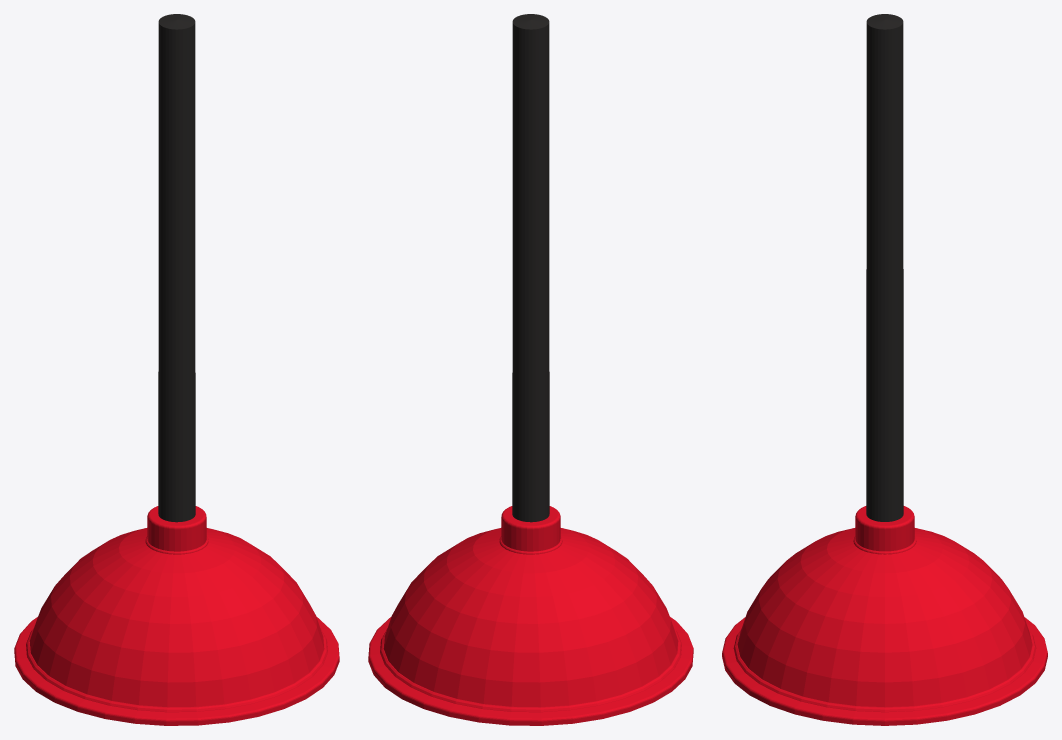
Rendered from pump.fbx.
3 views of the same model, side by side, from view 1: azimuth 30°, elevation 25°; view 2: azimuth 150°, elevation 25°; view 3: azimuth 270°, elevation 25° (orthographic).
Parts seen in each view (by area): view 1: Sphere; view 2: Sphere; view 3: Sphere.
Part boxes in pixels (x1,y1,x2,y2): Sphere: (14, 14, 339, 725); Sphere: (368, 14, 693, 725); Sphere: (722, 14, 1047, 725).
Size of the model in its own units: 1.21 by 2.61 by 1.21.
